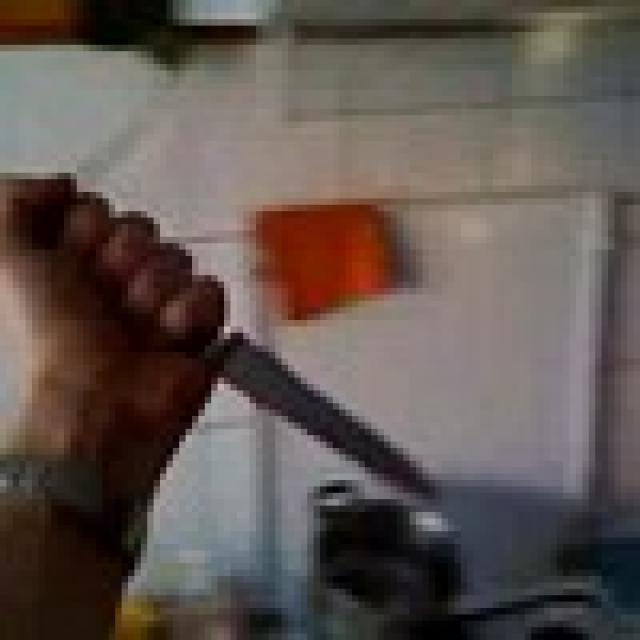weapon: (44, 191, 442, 504)
